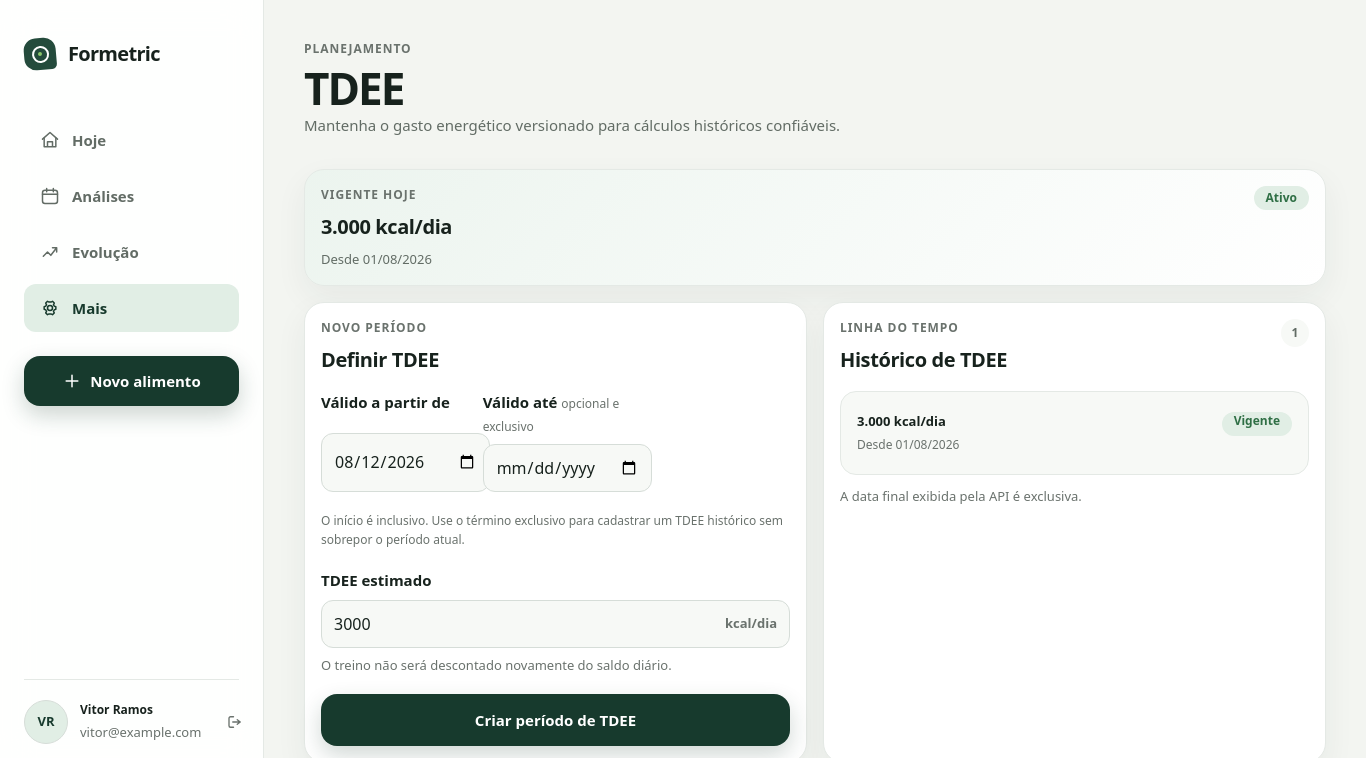
Test: planejamento › carrega e cria períodos de TDEE
Expected: the heading "3.000 kcal/dia" is shown, x1=321 y1=212 x2=452 y2=242
In the date field labelled "Válido a partir de": (406, 462) x1=321 y1=433 x2=490 y2=492, type "2026-07-01"
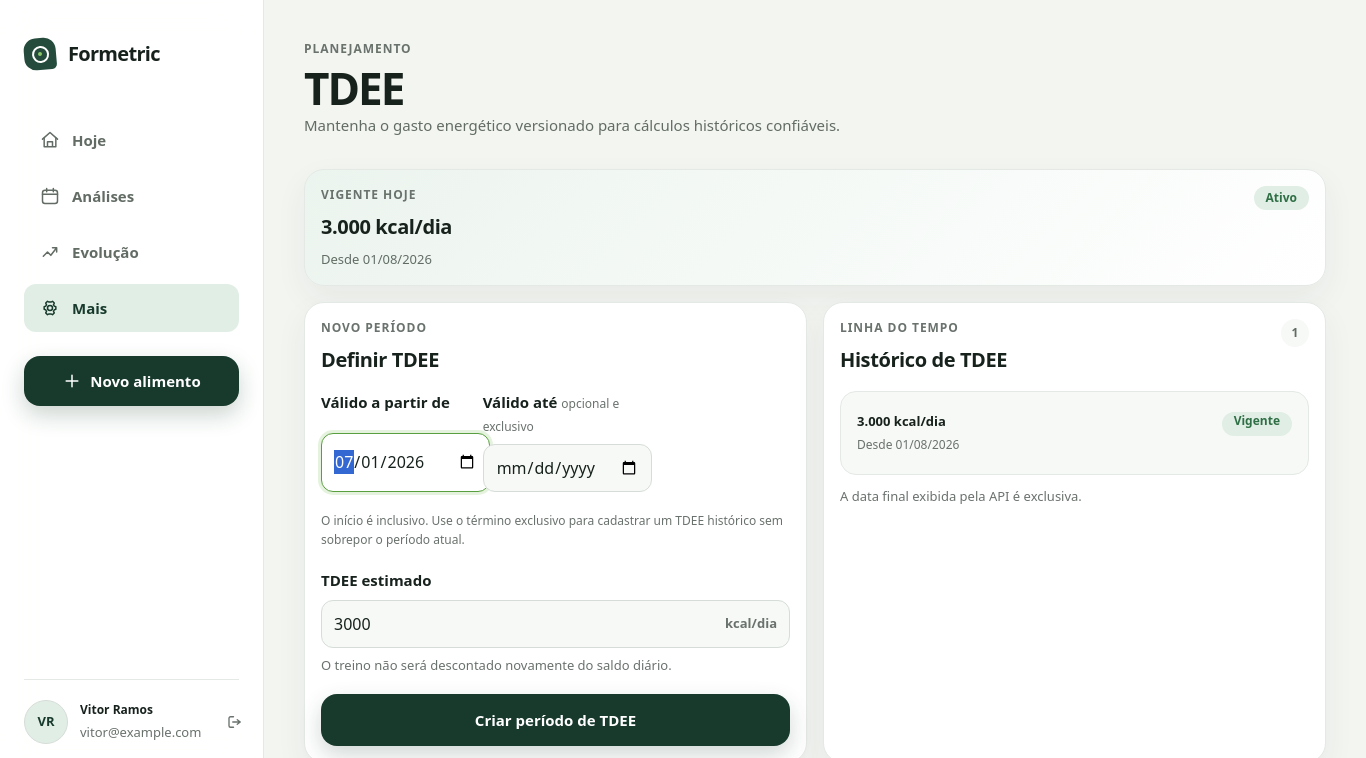
In the date field labelled "Válido até opcional e exclusivo": (567, 468) x1=483 y1=444 x2=652 y2=492, type "2026-08-01"
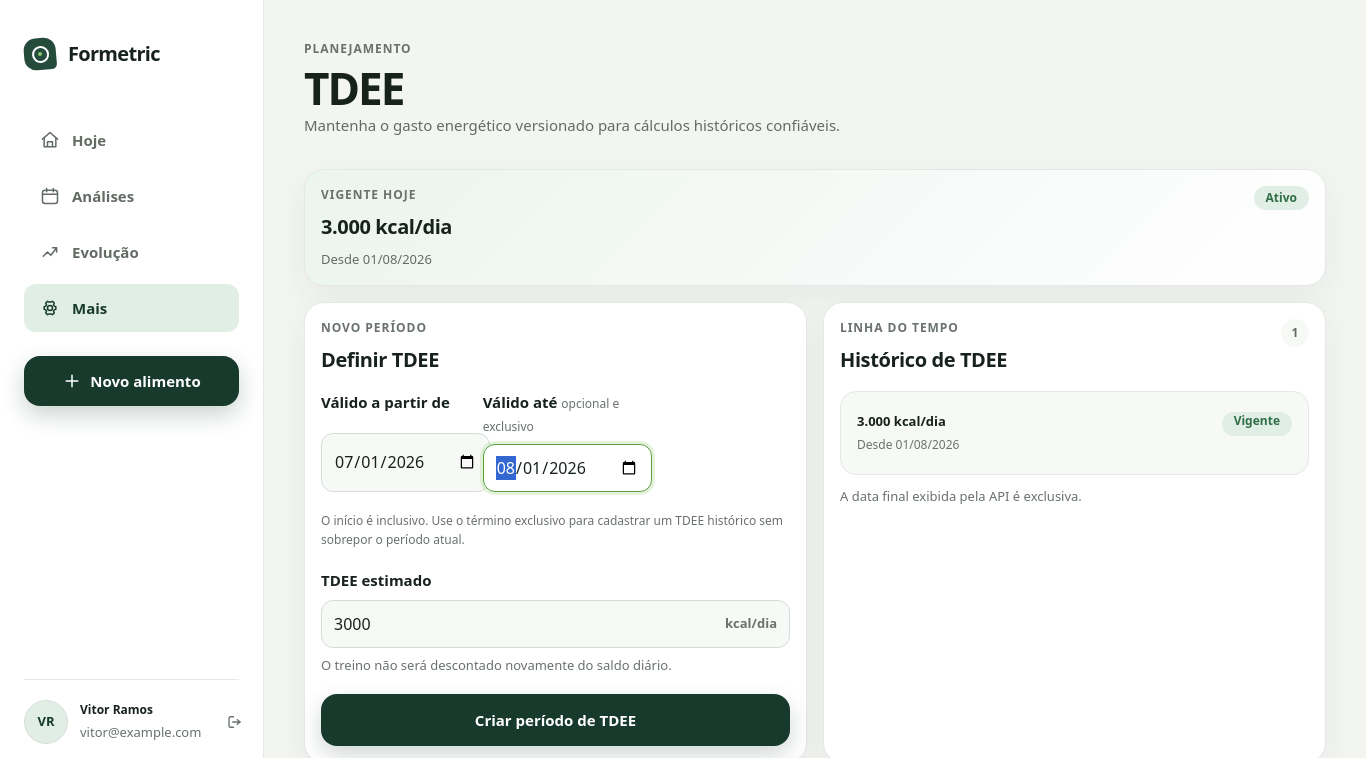
Replace the text in the number field labelled "TDEE estimado" with "3150": (556, 624) x1=321 y1=600 x2=790 y2=648
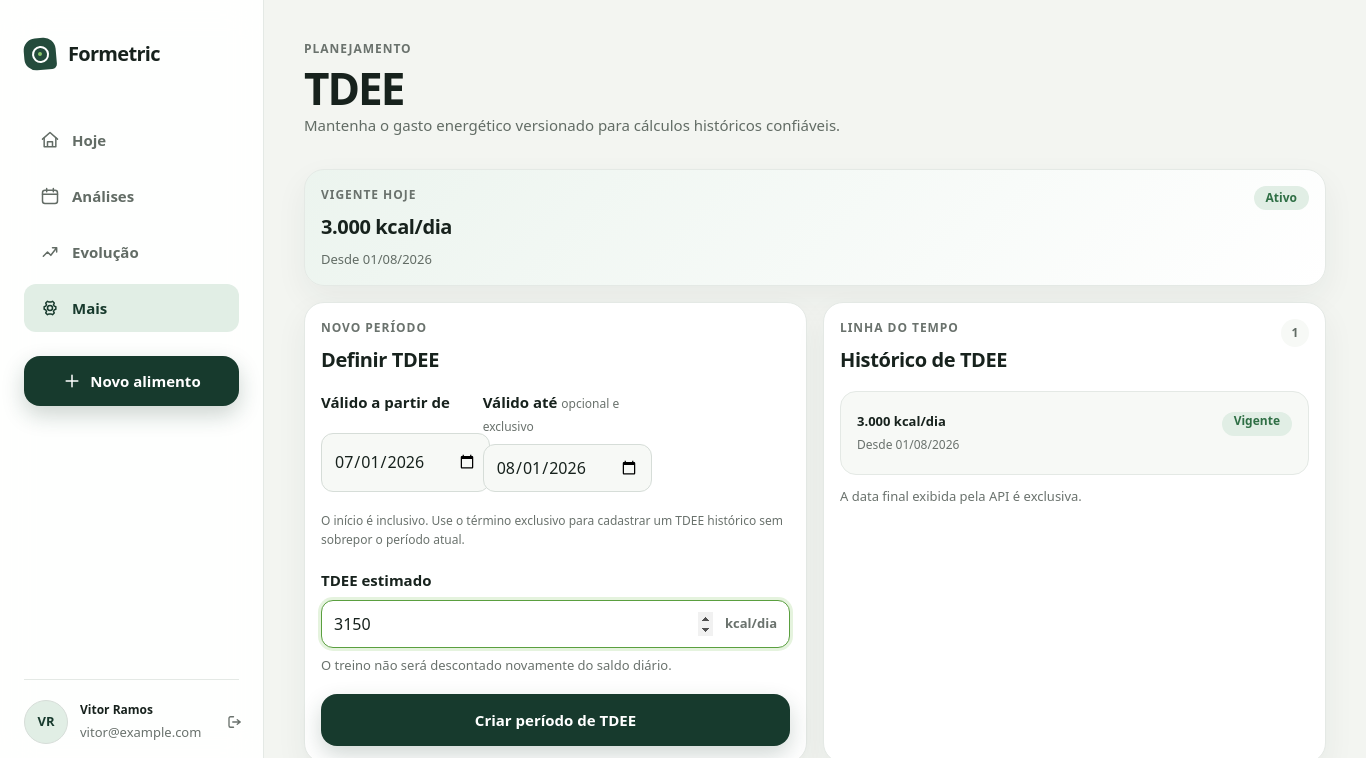
Click the button "Criar período de TDEE": (556, 720) x1=321 y1=694 x2=790 y2=746
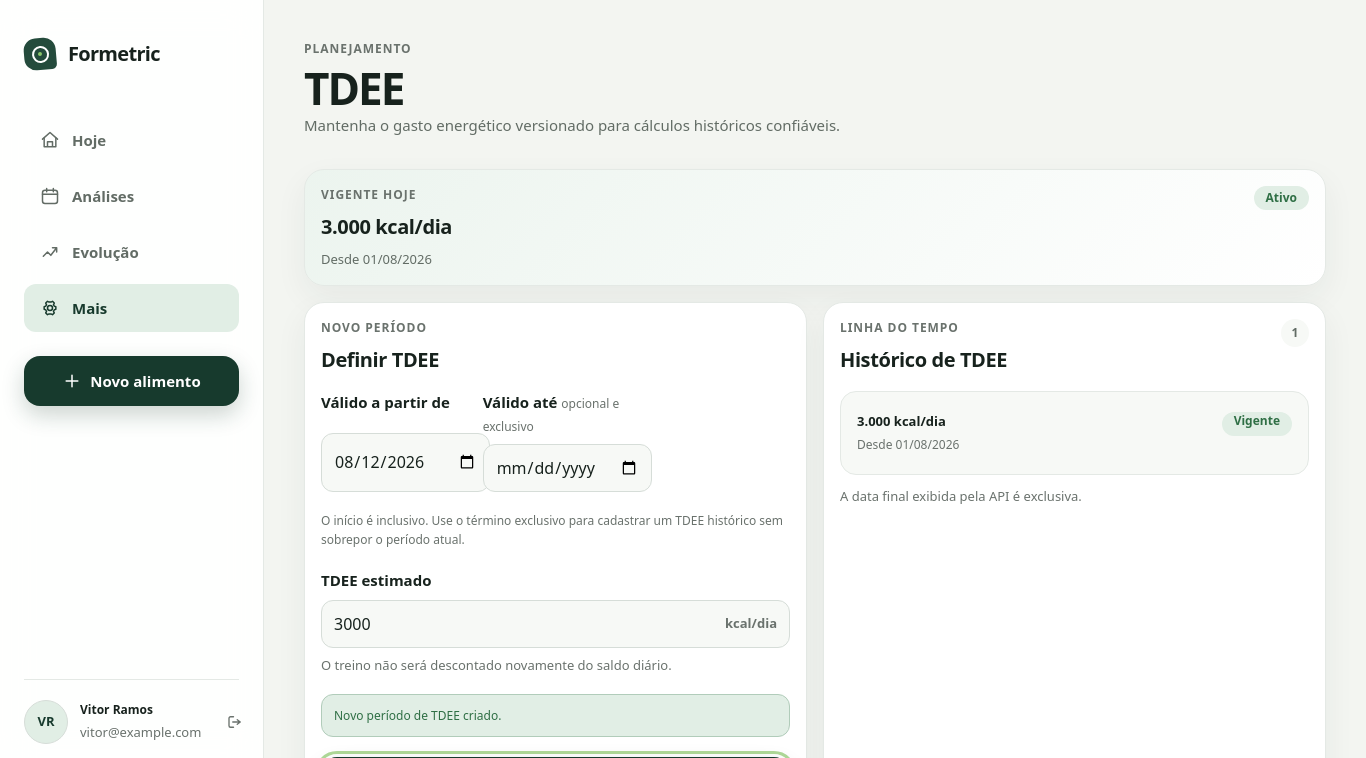
Result: the message shows "Novo período de TDEE criado" at x1=334 y1=707 x2=501 y2=724
